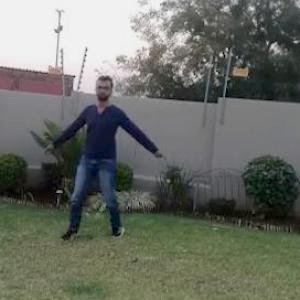land: (55, 82, 162, 222)
